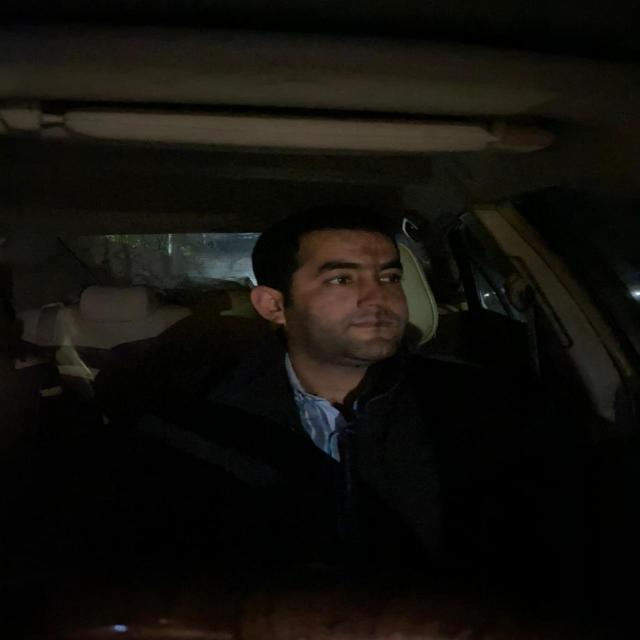person: (252, 210, 428, 363)
